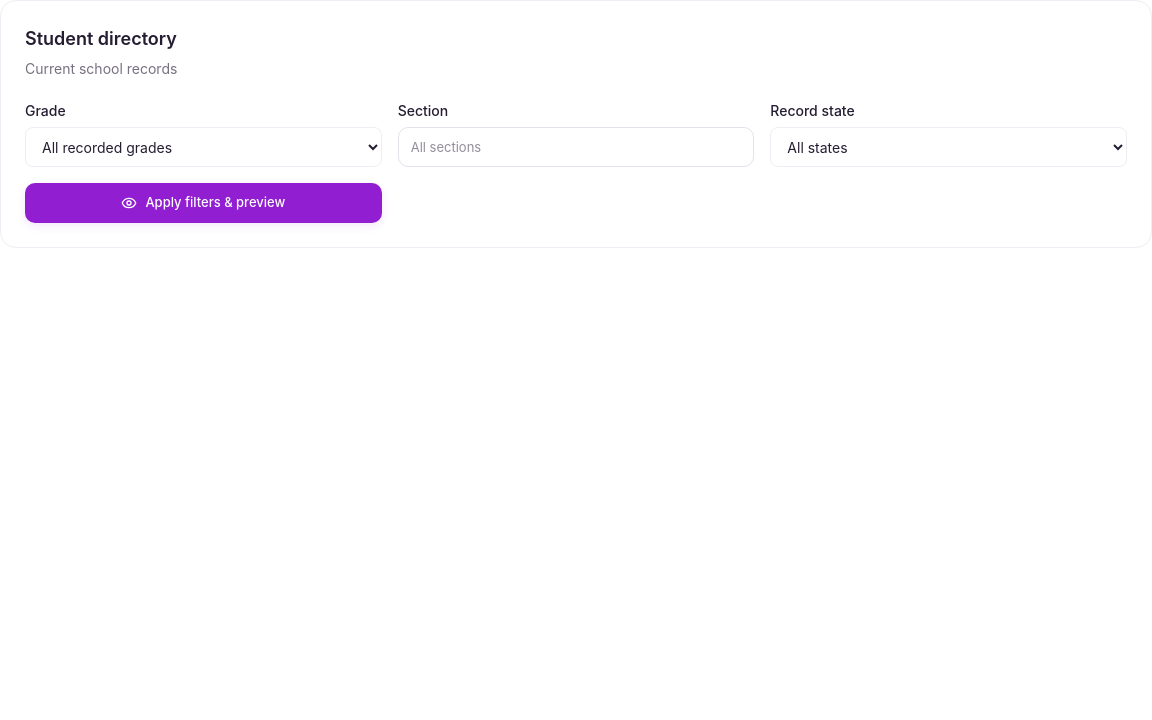
Scenario: preview requires an explicit action and read-only report access cannot save
Type "A" into the field labelled "Section" at (576, 147), box [398, 127, 754, 167]
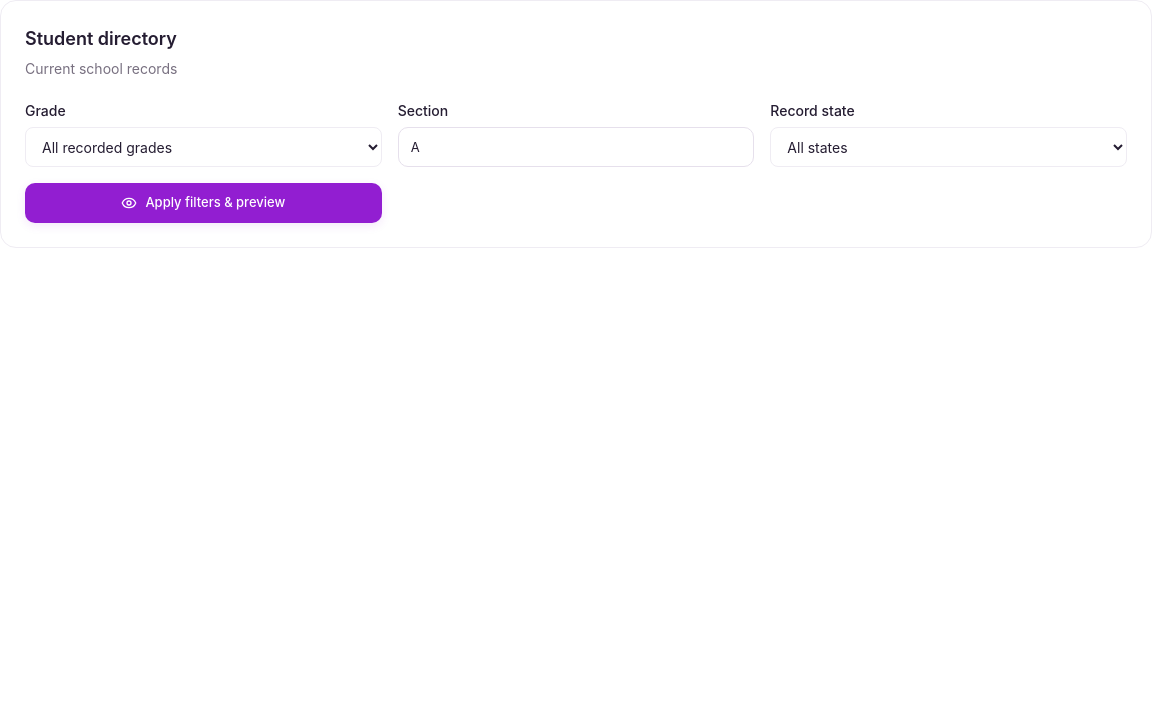
Click the button "Apply filters & preview" at (203, 203), box [25, 183, 382, 223]
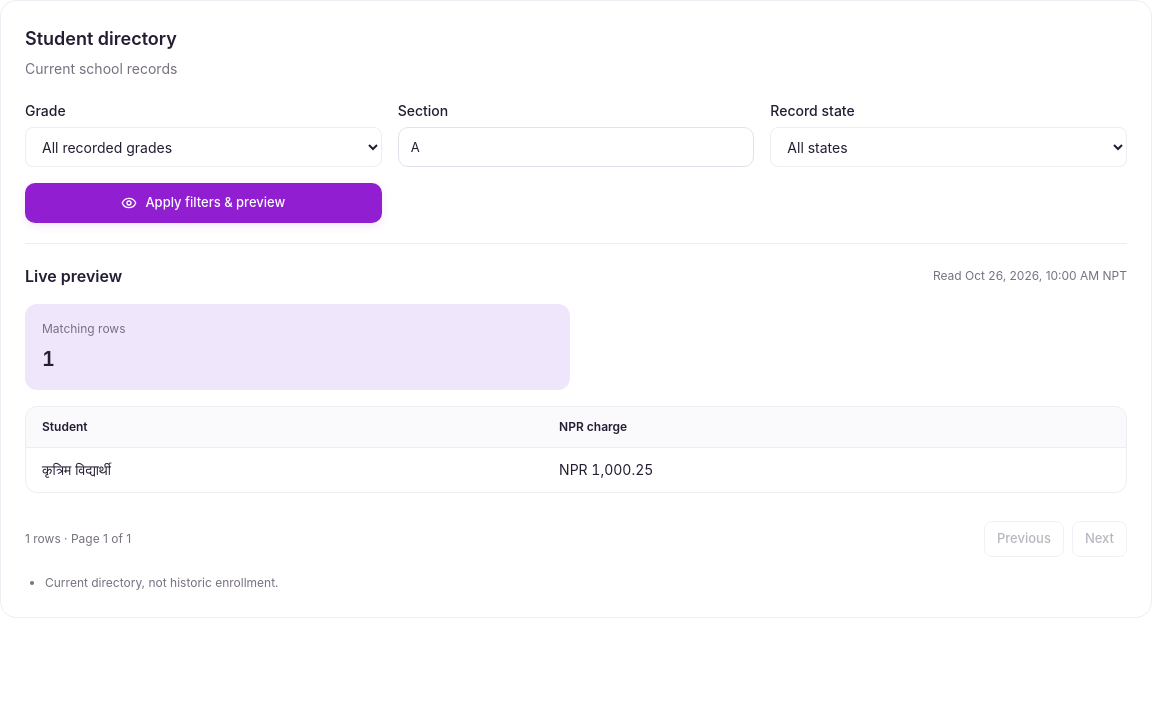
Result: the text "कृत्रिम विद्यार्थी" is shown at [26, 448, 543, 492]
